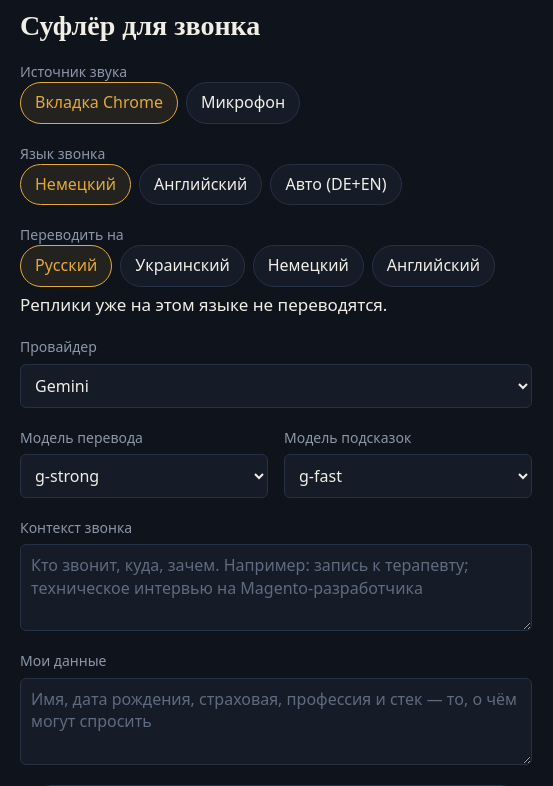
Test case: setup screen › resets both models when another provider is chosen
Select "Claude" in the dropdown labelled "Провайдер" at (276, 386), box [20,364,532,408]
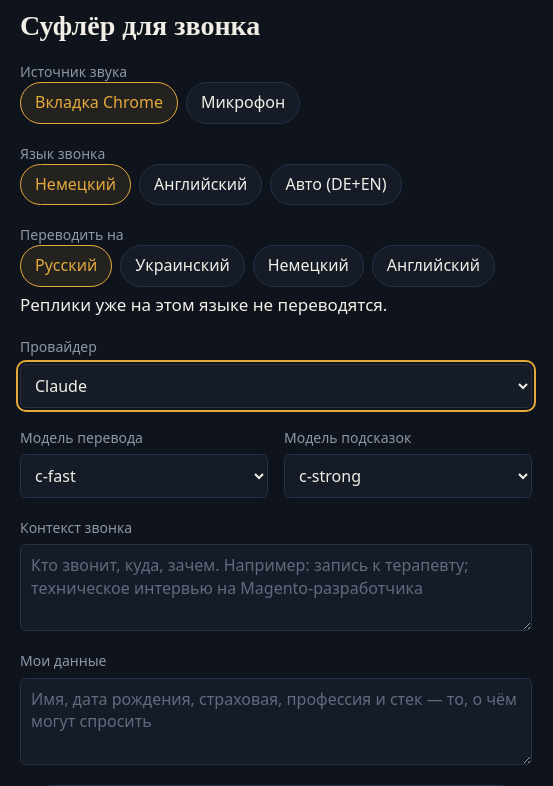
expect the dropdown labelled "Модель перевода" shows "c-fast": met, box [20,454,268,498]
expect the dropdown labelled "Модель подсказок" shows "c-strong": met, box [284,454,532,498]
